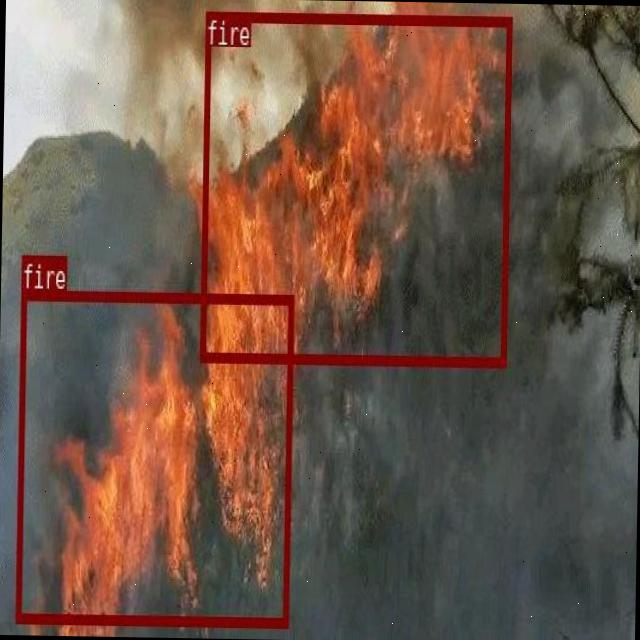fire: (200, 10, 510, 364), (14, 288, 292, 626)
